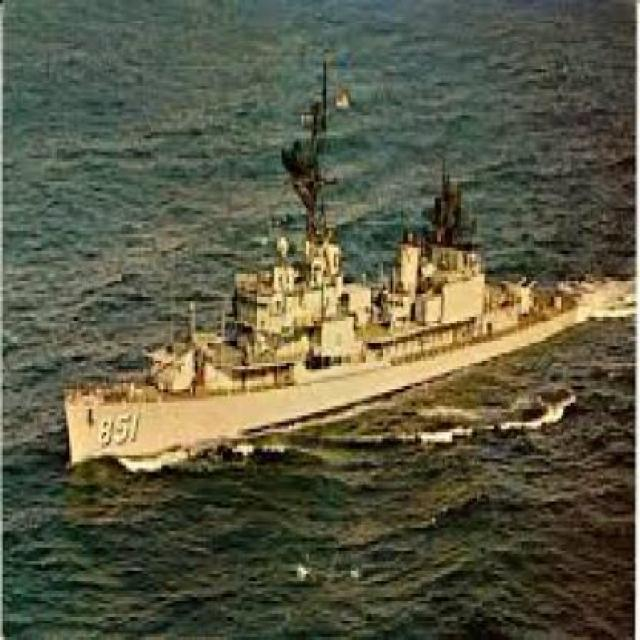warship2: (63, 57, 621, 480)
